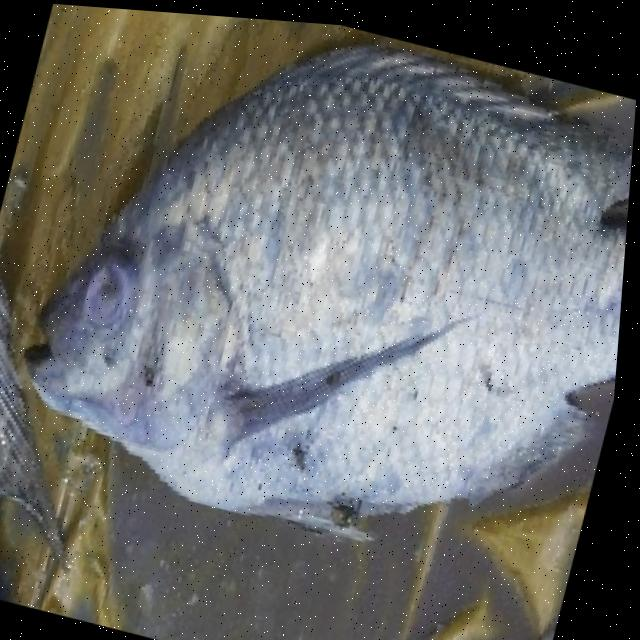Non-Fresh: (132, 69, 623, 526), (63, 242, 162, 353)
